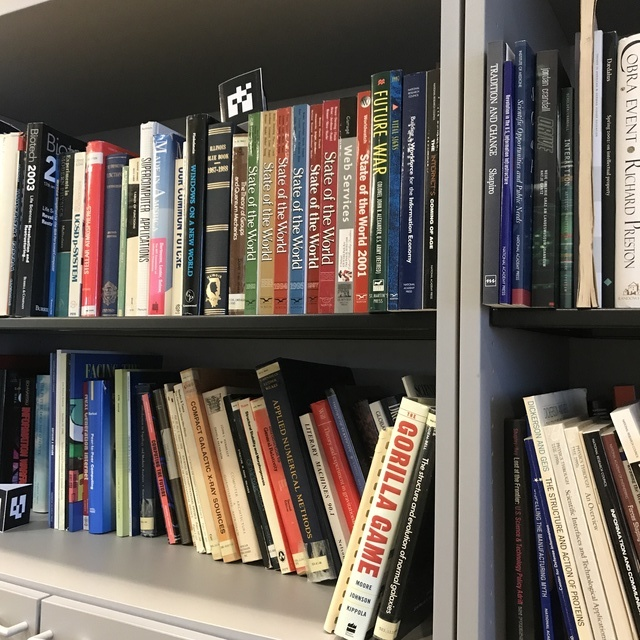ARTag: (217, 67, 269, 127)
